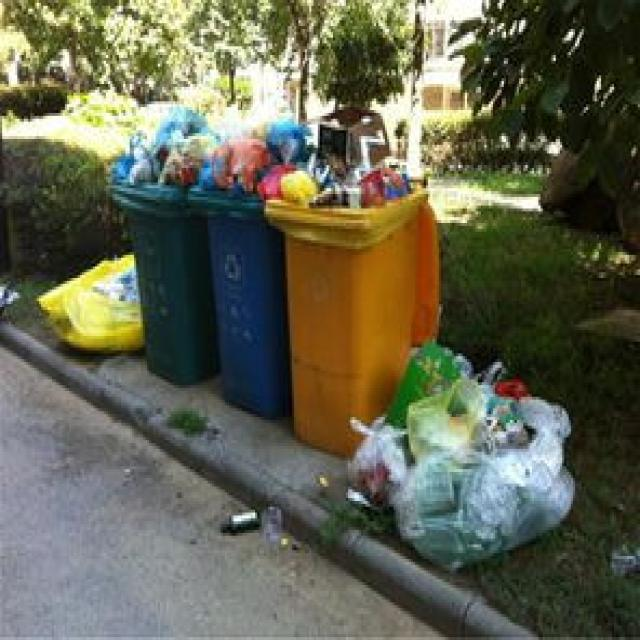garbage: (344, 336, 575, 568), (32, 249, 140, 348)
overflow: (264, 101, 441, 455), (186, 119, 313, 417), (106, 107, 216, 388)
